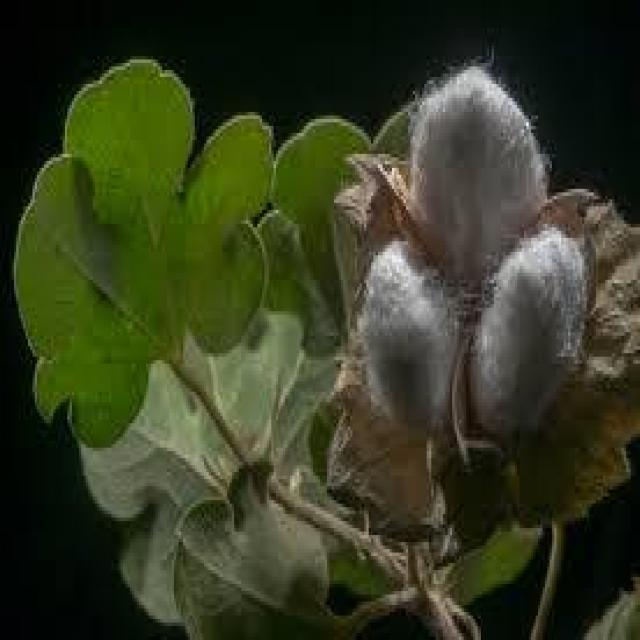Leaf: (347, 48, 609, 473)
